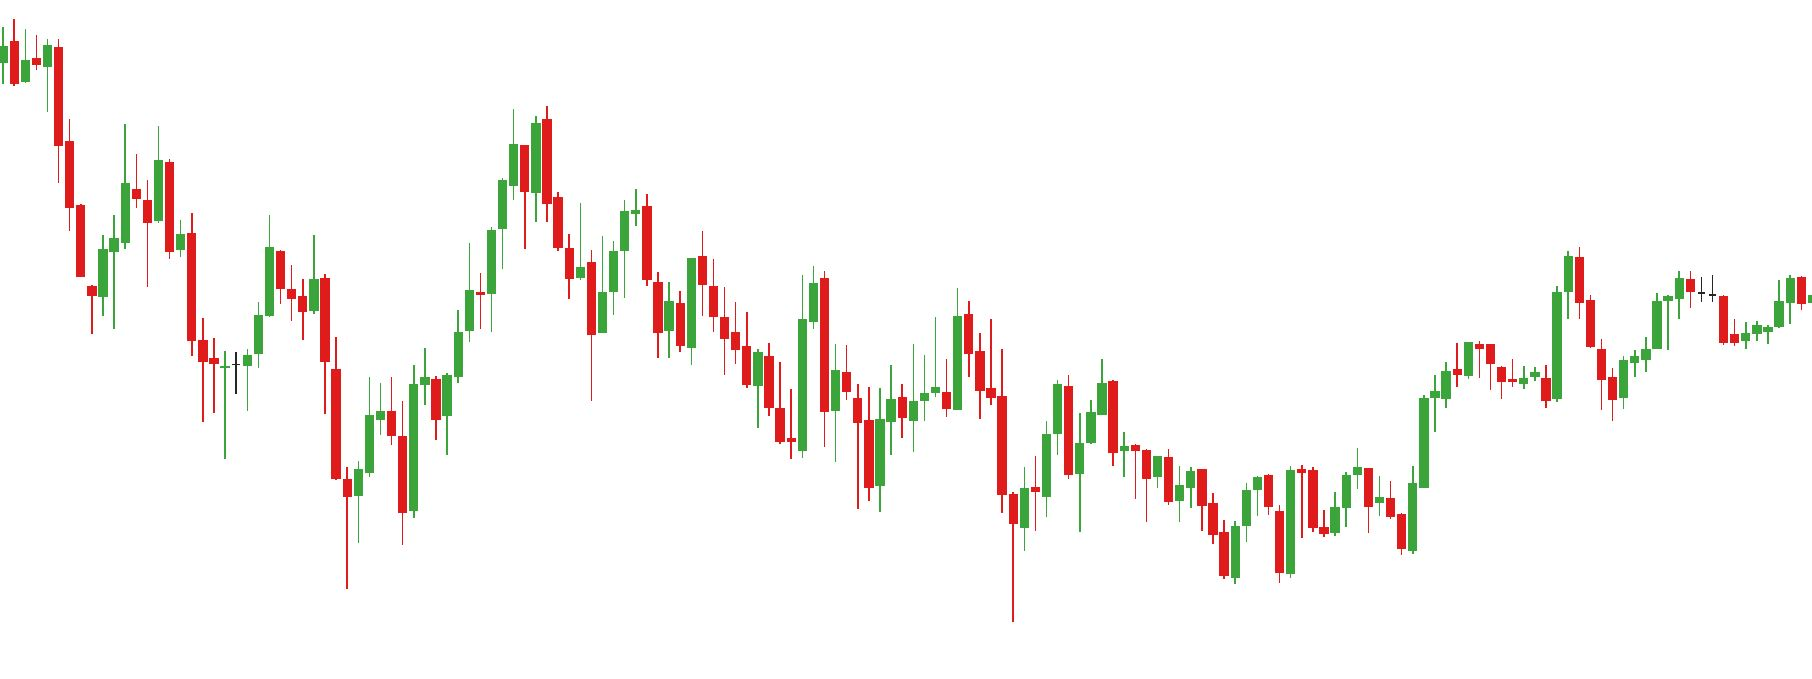buy: (852, 350, 1031, 629), (220, 309, 376, 599), (1297, 465, 1420, 559), (1537, 304, 1632, 417)
sell: (573, 187, 656, 308), (1052, 359, 1119, 486)
